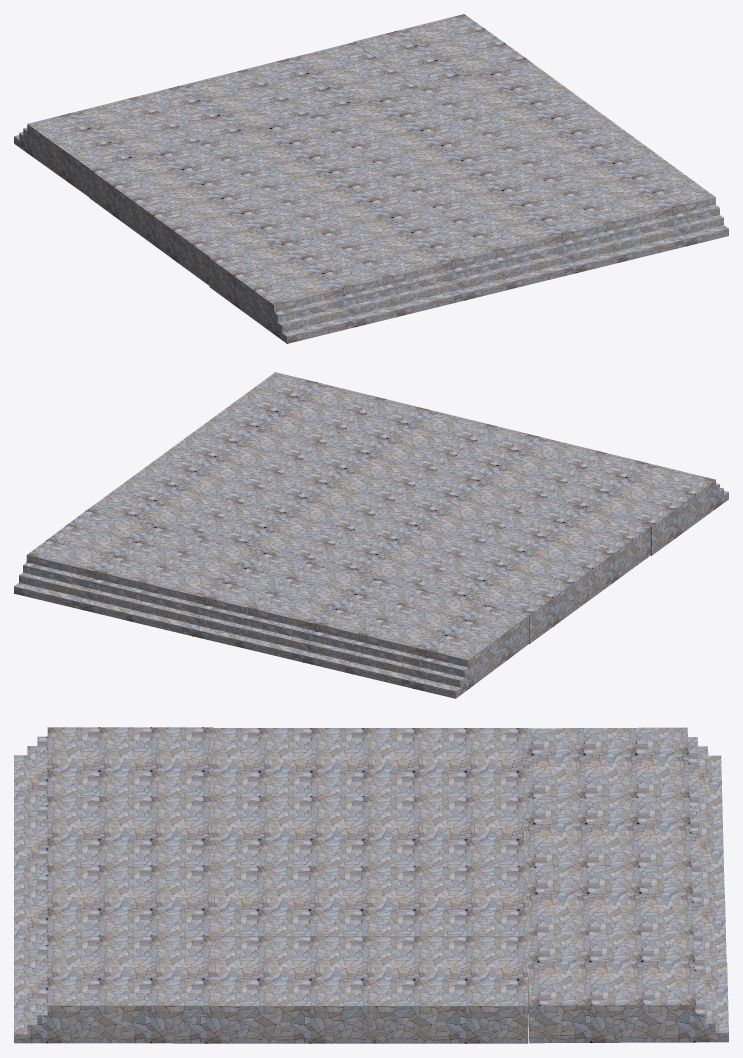
The model's file is plat.obj.
3 views of the same model, one above another, from view 1: azimuth 30°, elevation 25°; view 2: azimuth 150°, elevation 25°; view 3: azimuth 270°, elevation 25° (orthographic). The views are drawn at different scales.
Visible parts, largest first — view 1: Layer0_004, Layer0_002, Layer0_001, Layer0_003, Layer0_013, Layer0_008, Layer0_009, Layer0_016, Layer0_005, Layer0_015, Layer0_014, Layer0_006 (+4 smaller); view 2: Layer0_013, Layer0_016, Layer0_014, Layer0_015, Layer0_004, Layer0_008, Layer0_009, Layer0_002, Layer0_001, Layer0_003, Layer0_012, Layer0_005 (+4 smaller); view 3: Layer0_016, Layer0_002, Layer0_007, Layer0_012, Layer0_001, Layer0_004, Layer0_014, Layer0_013, Layer0_003, Layer0_015, Layer0_005, Layer0_011 (+4 smaller).
Part boxes in pixels (bbox=[...]): Layer0_004: bbox=[209, 233, 397, 343]; Layer0_002: bbox=[540, 150, 728, 262]; Layer0_001: bbox=[429, 177, 617, 289]; Layer0_003: bbox=[320, 205, 507, 317]; Layer0_013: bbox=[14, 96, 200, 196]; Layer0_008: bbox=[149, 185, 323, 285]; Layer0_009: bbox=[89, 142, 259, 254]; Layer0_016: bbox=[354, 14, 529, 88]; Layer0_005: bbox=[257, 159, 431, 233]; Layer0_015: bbox=[246, 42, 420, 114]; Layer0_014: bbox=[136, 69, 309, 141]; Layer0_006: bbox=[369, 132, 540, 204]; Layer0_013: bbox=[344, 587, 528, 698]; Layer0_016: bbox=[14, 508, 201, 620]; Layer0_014: bbox=[235, 561, 420, 672]; Layer0_015: bbox=[126, 535, 308, 646]; Layer0_004: bbox=[546, 453, 728, 555]; Layer0_008: bbox=[482, 498, 652, 600]; Layer0_009: bbox=[419, 544, 601, 643]; Layer0_002: bbox=[211, 372, 385, 445]; Layer0_001: bbox=[322, 399, 496, 472]; Layer0_003: bbox=[433, 426, 606, 499]; Layer0_012: bbox=[90, 461, 262, 534]; Layer0_005: bbox=[370, 471, 539, 545]; Layer0_016: bbox=[527, 934, 728, 1043]; Layer0_002: bbox=[14, 935, 213, 1043]; Layer0_007: bbox=[173, 936, 372, 1043]; Layer0_012: bbox=[329, 936, 528, 1043]; Layer0_001: bbox=[14, 865, 213, 963]; Layer0_004: bbox=[14, 727, 213, 825]; Layer0_014: bbox=[523, 796, 724, 895]; Layer0_013: bbox=[521, 727, 722, 825]; Layer0_003: bbox=[14, 796, 213, 893]; Layer0_015: bbox=[525, 866, 726, 962]; Layer0_005: bbox=[207, 796, 373, 866]; Layer0_011: bbox=[362, 866, 528, 936].
Size of the model in its own units: 381 by 24.31 by 413.
Materials: 1 (1 with a texture image).
